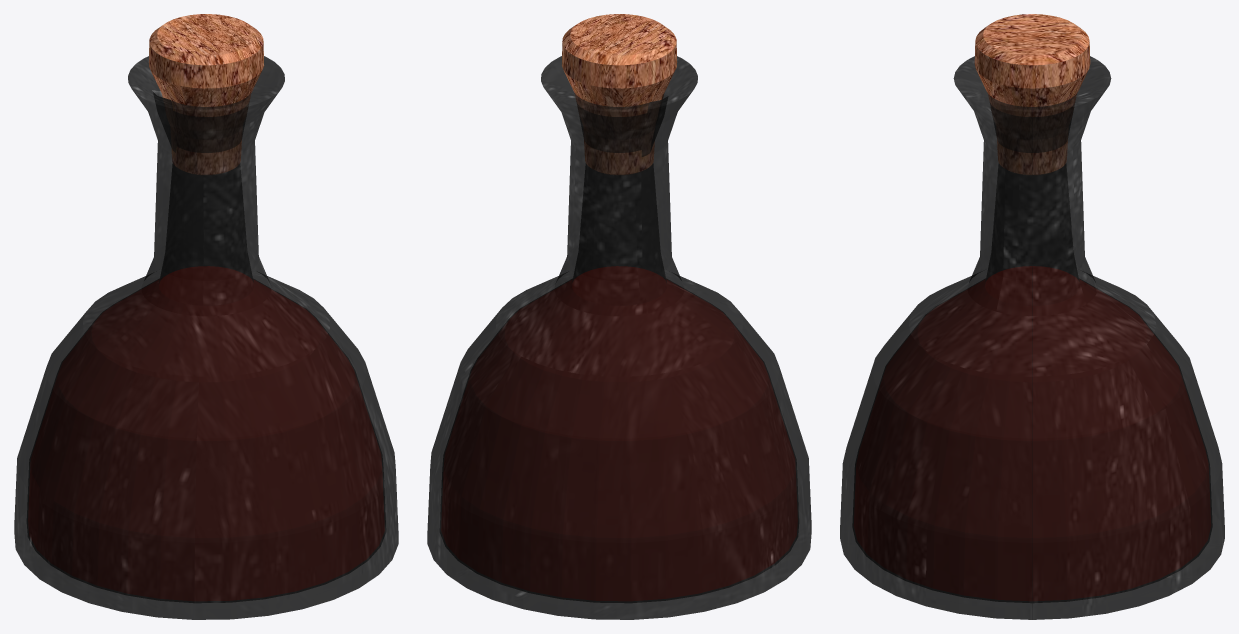
Rendered from potion.glb.
3 views of the same model, side by side, from view 1: azimuth 30°, elevation 25°; view 2: azimuth 150°, elevation 25°; view 3: azimuth 270°, elevation 25° (orthographic).
Parts seen in each view (by area): view 1: Cylinder, Cylinder.003, Cylinder.001; view 2: Cylinder, Cylinder.003, Cylinder.001; view 3: Cylinder, Cylinder.003, Cylinder.001.
Boxes of the visible parts, x1=… form: Cylinder: x1=14, y1=56, x2=398, y2=619; Cylinder.003: x1=28, y1=266, x2=384, y2=600; Cylinder.001: x1=148, y1=14, x2=264, y2=174; Cylinder: x1=427, y1=56, x2=811, y2=619; Cylinder.003: x1=441, y1=266, x2=797, y2=600; Cylinder.001: x1=561, y1=14, x2=677, y2=174; Cylinder: x1=840, y1=56, x2=1224, y2=619; Cylinder.003: x1=854, y1=266, x2=1210, y2=600; Cylinder.001: x1=974, y1=14, x2=1090, y2=174.
Size of the model in its own units: 2.96 by 4.27 by 2.96.
Materials: 3 (2 with a texture image).
